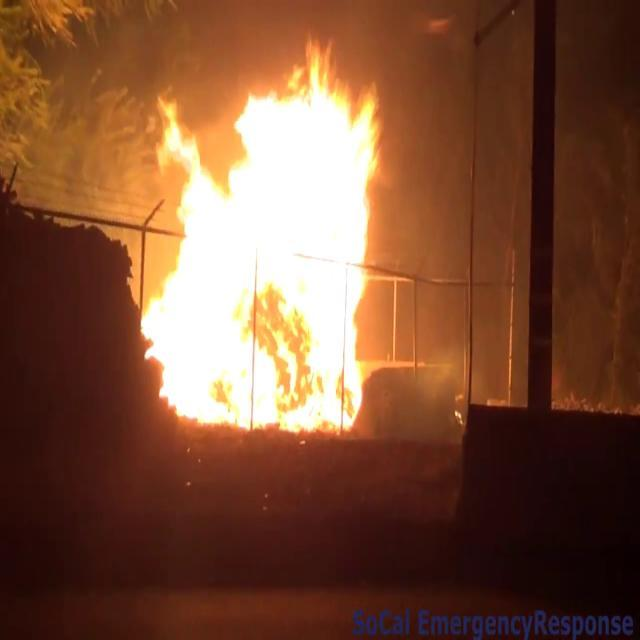Fire: (138, 40, 386, 436)
